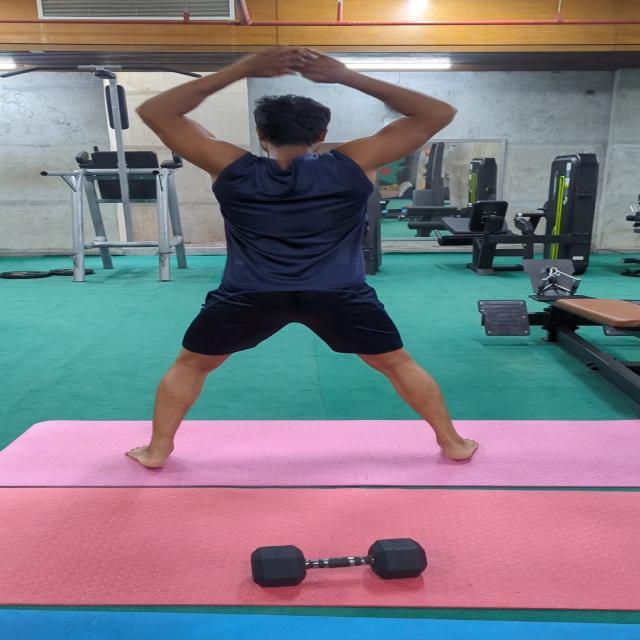Normal_JumpingJacks: (85, 54, 519, 474)
